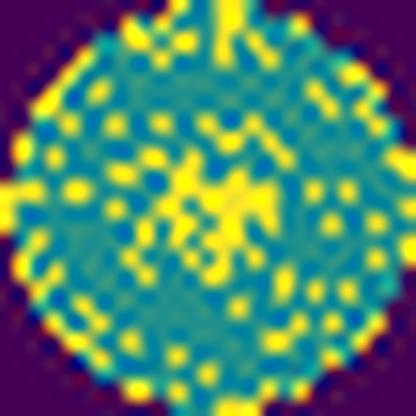Center: (104, 140, 284, 291)
